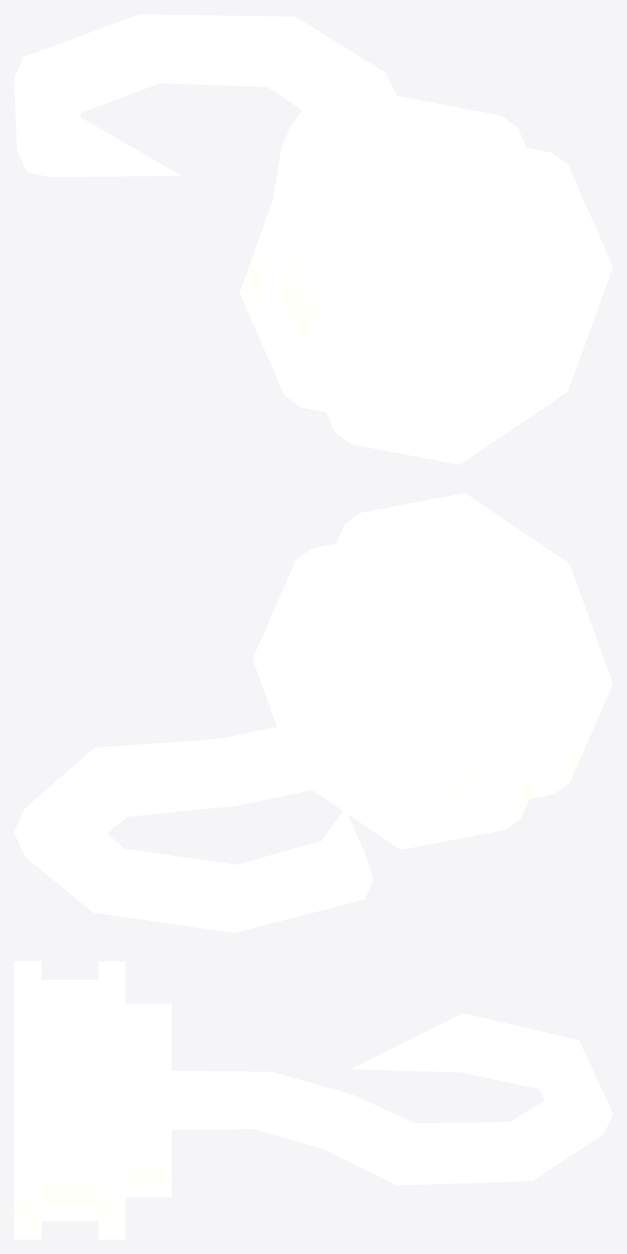
Rendered from Hook.glb.
The picture shows the model from 3 angles, top to bottom: view 1: azimuth 30°, elevation 25°; view 2: azimuth 150°, elevation 25°; view 3: azimuth 270°, elevation 25°; orthographic projection. The views are drawn at different scales.
Visible parts, largest first — view 1: Hook; view 2: Hook; view 3: Hook.
Part boxes in pixels (bbox=[...]): Hook: bbox=[14, 14, 612, 464]; Hook: bbox=[14, 493, 612, 932]; Hook: bbox=[14, 961, 612, 1239].
Bounding box in the file's own units: 0.5027 × 0.4552 × 0.9209.
1 material, 1 textured.
